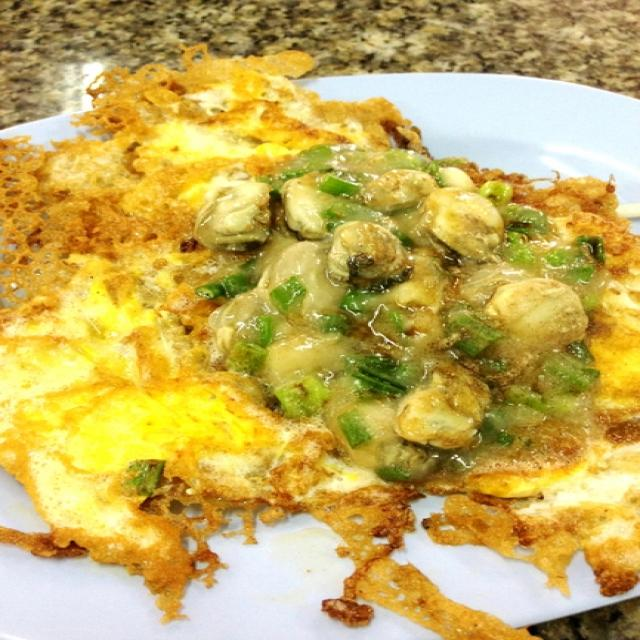炸货点心: (13, 27, 621, 616)
蛋糕甜品: (13, 27, 621, 616)
